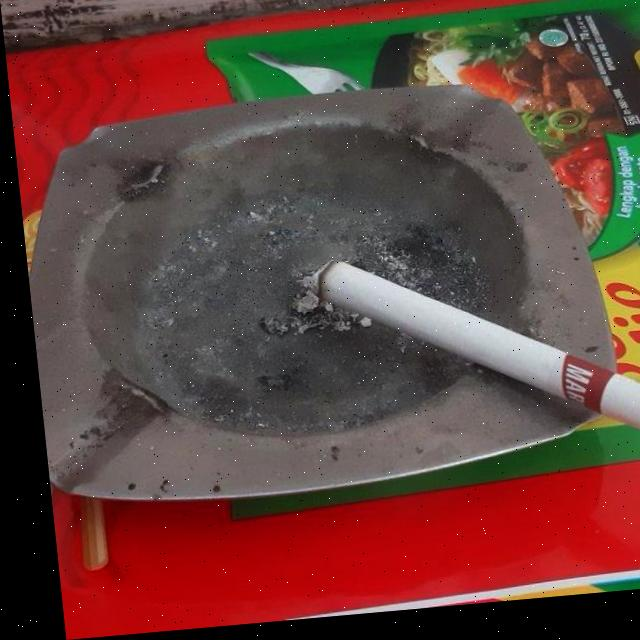cigarette: (299, 237, 640, 483)
